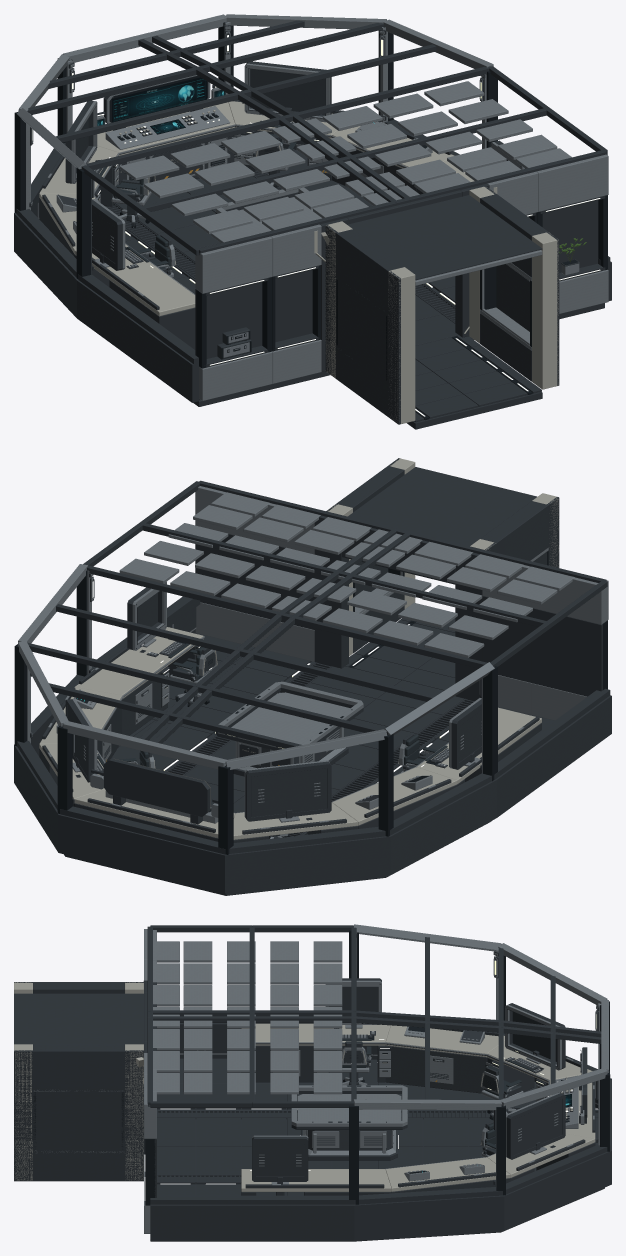
File: cruz-del-sur-bridge-interior.glb
The picture shows the model from 3 angles, top to bottom: view 1: azimuth 30°, elevation 25°; view 2: azimuth 150°, elevation 25°; view 3: azimuth 270°, elevation 25°; orthographic projection. The views are drawn at different scales.
Visible parts, largest first — view 1: BRIDGE_RUNTIME_BRIDGE_V15_Graphite_, BRIDGE_RUNTIME_BRIDGE_V15_Metal_, BRIDGE_RUNTIME_BRIDGE_V15_Gasket_, BRIDGE_RUNTIME_BRIDGE_V15_Ivory_, BRIDGE_RUNTIME_BRIDGE_Counter_finish_, BRIDGE_RUNTIME_BRIDGE_Deck_finish_, BRIDGE_RUNTIME_BRIDGE_Central_navigation_, BRIDGE_RUNTIME_BRIDGE_V15_Graphite_communications, BRIDGE_RUNTIME_BRIDGE_V15_Graphite_arcade, BRIDGE_RUNTIME_BRIDGE_V15_Graphite_computer, BRIDGE_RUNTIME_BRIDGE_Upholstery_, BRIDGE_RUNTIME_BRIDGE_V15_Amber_ (+3 smaller); view 2: BRIDGE_RUNTIME_BRIDGE_V15_Graphite_, BRIDGE_RUNTIME_BRIDGE_V15_Metal_, BRIDGE_RUNTIME_BRIDGE_Deck_finish_, BRIDGE_RUNTIME_BRIDGE_Counter_finish_, BRIDGE_RUNTIME_BRIDGE_V15_Gasket_, BRIDGE_RUNTIME_BRIDGE_V15_Metal_tactical, BRIDGE_RUNTIME_BRIDGE_V15_Graphite_computer, BRIDGE_RUNTIME_BRIDGE_V15_Graphite_arcade, BRIDGE_RUNTIME_BRIDGE_V15_Graphite_tactical, BRIDGE_RUNTIME_BRIDGE_V15_Graphite_personal, BRIDGE_RUNTIME_BRIDGE_V15_Ivory_, BRIDGE_RUNTIME_BRIDGE_Upholstery_ (+2 smaller); view 3: BRIDGE_RUNTIME_BRIDGE_V15_Graphite_, BRIDGE_RUNTIME_BRIDGE_V15_Metal_, BRIDGE_RUNTIME_BRIDGE_Deck_finish_, BRIDGE_RUNTIME_BRIDGE_Counter_finish_, BRIDGE_RUNTIME_BRIDGE_V15_Gasket_, BRIDGE_RUNTIME_BRIDGE_V15_Metal_tactical, BRIDGE_RUNTIME_BRIDGE_V15_Ivory_, BRIDGE_RUNTIME_BRIDGE_V15_Graphite_personal, BRIDGE_RUNTIME_BRIDGE_V15_Graphite_communications, BRIDGE_RUNTIME_BRIDGE_V15_Graphite_tactical, BRIDGE_RUNTIME_BRIDGE_V15_Graphite_computer, BRIDGE_RUNTIME_BRIDGE_V15_Graphite_arcade (+4 smaller).
Boxes of the visible parts, x1=… form: BRIDGE_RUNTIME_BRIDGE_V15_Graphite_: x1=14, y1=20, x2=611, y2=429; BRIDGE_RUNTIME_BRIDGE_V15_Metal_: x1=17, y1=14, x2=608, y2=400; BRIDGE_RUNTIME_BRIDGE_V15_Gasket_: x1=14, y1=22, x2=607, y2=420; BRIDGE_RUNTIME_BRIDGE_V15_Ivory_: x1=98, y1=110, x2=558, y2=423; BRIDGE_RUNTIME_BRIDGE_Counter_finish_: x1=39, y1=101, x2=474, y2=316; BRIDGE_RUNTIME_BRIDGE_Deck_finish_: x1=115, y1=148, x2=458, y2=400; BRIDGE_RUNTIME_BRIDGE_Central_navigation_: x1=97, y1=77, x2=225, y2=134; BRIDGE_RUNTIME_BRIDGE_V15_Graphite_communications: x1=232, y1=61, x2=344, y2=137; BRIDGE_RUNTIME_BRIDGE_V15_Graphite_arcade: x1=92, y1=199, x2=159, y2=310; BRIDGE_RUNTIME_BRIDGE_V15_Graphite_computer: x1=42, y1=100, x2=120, y2=188; BRIDGE_RUNTIME_BRIDGE_Upholstery_: x1=99, y1=125, x2=296, y2=268; BRIDGE_RUNTIME_BRIDGE_V15_Amber_: x1=32, y1=35, x2=600, y2=416; BRIDGE_RUNTIME_BRIDGE_V15_Graphite_: x1=14, y1=458, x2=611, y2=895; BRIDGE_RUNTIME_BRIDGE_V15_Metal_: x1=18, y1=486, x2=608, y2=838; BRIDGE_RUNTIME_BRIDGE_Deck_finish_: x1=112, y1=633, x2=554, y2=835; BRIDGE_RUNTIME_BRIDGE_Counter_finish_: x1=39, y1=627, x2=541, y2=839; BRIDGE_RUNTIME_BRIDGE_V15_Gasket_: x1=14, y1=551, x2=607, y2=854; BRIDGE_RUNTIME_BRIDGE_V15_Metal_tactical: x1=217, y1=681, x2=363, y2=770; BRIDGE_RUNTIME_BRIDGE_V15_Graphite_computer: x1=242, y1=761, x2=346, y2=834; BRIDGE_RUNTIME_BRIDGE_V15_Graphite_arcade: x1=435, y1=699, x2=539, y2=776; BRIDGE_RUNTIME_BRIDGE_V15_Graphite_tactical: x1=215, y1=687, x2=363, y2=776; BRIDGE_RUNTIME_BRIDGE_V15_Graphite_personal: x1=79, y1=583, x2=176, y2=722; BRIDGE_RUNTIME_BRIDGE_V15_Ivory_: x1=114, y1=458, x2=559, y2=808; BRIDGE_RUNTIME_BRIDGE_Upholstery_: x1=97, y1=643, x2=447, y2=767; BRIDGE_RUNTIME_BRIDGE_V15_Graphite_: x1=14, y1=925, x2=611, y2=1241; BRIDGE_RUNTIME_BRIDGE_V15_Metal_: x1=34, y1=924, x2=608, y2=1233; BRIDGE_RUNTIME_BRIDGE_Deck_finish_: x1=157, y1=1058, x2=598, y2=1195; BRIDGE_RUNTIME_BRIDGE_Counter_finish_: x1=241, y1=1023, x2=595, y2=1191; BRIDGE_RUNTIME_BRIDGE_V15_Gasket_: x1=33, y1=930, x2=609, y2=1205; BRIDGE_RUNTIME_BRIDGE_V15_Metal_tactical: x1=291, y1=1085, x2=407, y2=1155; BRIDGE_RUNTIME_BRIDGE_V15_Ivory_: x1=14, y1=981, x2=572, y2=1180; BRIDGE_RUNTIME_BRIDGE_V15_Graphite_personal: x1=245, y1=1136, x2=384, y2=1188; BRIDGE_RUNTIME_BRIDGE_V15_Graphite_communications: x1=507, y1=1093, x2=585, y2=1170; BRIDGE_RUNTIME_BRIDGE_V15_Graphite_tactical: x1=291, y1=1086, x2=407, y2=1160; BRIDGE_RUNTIME_BRIDGE_V15_Graphite_computer: x1=485, y1=1003, x2=580, y2=1073; BRIDGE_RUNTIME_BRIDGE_V15_Graphite_arcade: x1=255, y1=978, x2=381, y2=1072.
Bounding box in the file's own units: 9.92 × 3.62 × 13.81.
13 materials, 6 textured.
